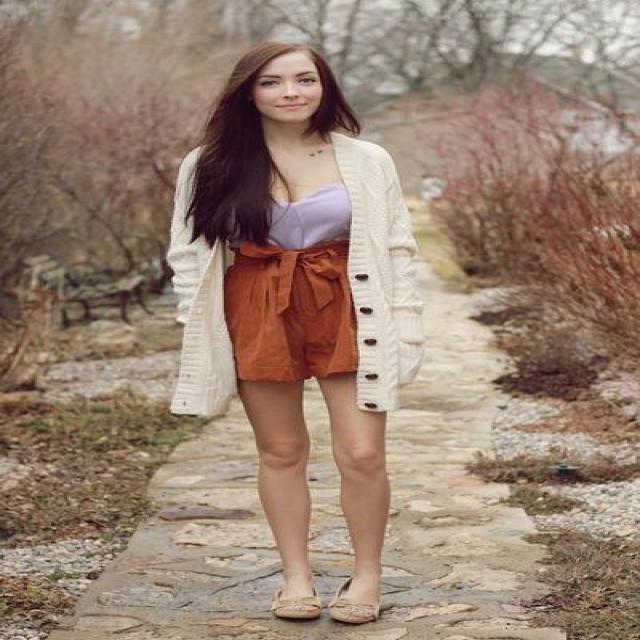jacket: (166, 132, 432, 410)
shirt: (269, 182, 352, 248)
shoe: (272, 582, 334, 614)
skirt: (222, 222, 358, 387)
